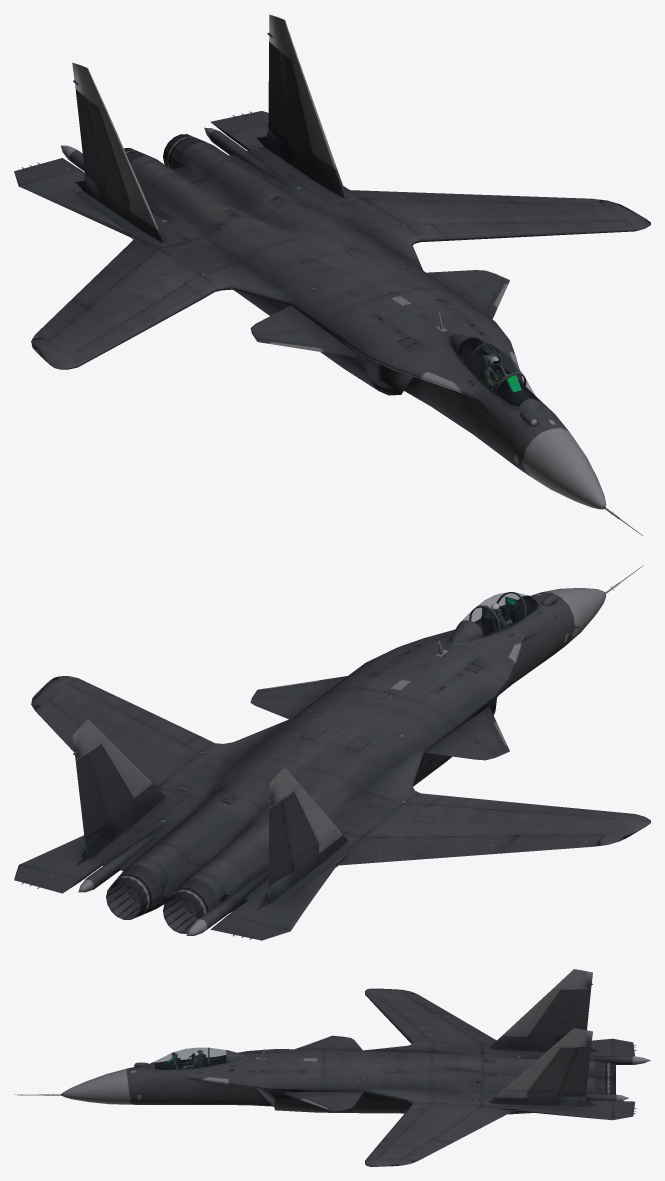
Rendered from Su-47_Berkut.dat.obj.
3 views of the same model, one above another, from view 1: azimuth 30°, elevation 25°; view 2: azimuth 150°, elevation 25°; view 3: azimuth 270°, elevation 25° (orthographic). The views are drawn at different scales.
Parts seen in each view (by area): view 1: SU-47_LOD0, SU-47_ElevatorR01, SU-47_CanardR01, SU-47_Glass01, SU-47_CanardL01, SU-47_FlapR01, SU-47_VoletL01, SU-47_VoletR01, SU-47_ElevatorL01, SU-47_RudderL01, SU-47_RudderR01, SU-47_FlapL01 (+1 smaller); view 2: SU-47_LOD0, SU-47_FlapR01, SU-47_ElevatorR01, SU-47_ElevatorL01, SU-47_CanardR01, SU-47_EngineL01, SU-47_CanardL01, SU-47_EngineR01, SU-47_Glass01, SU-47_RudderL01, SU-47_RudderR01, SU-47_AileronR01 (+3 smaller); view 3: SU-47_LOD0, SU-47_ElevatorL01, SU-47_Glass01, SU-47_FlapL01, SU-47_RudderL01, SU-47_CanardL01, SU-47_RudderR01, SU-47_ElevatorR01, SU-47_CanardR01, SU-47_FlapR01, SU-47_VoletR01, SU-47_VoletL01 (+4 smaller).
Part boxes in pixels (left/top/right/bottom): SU-47_LOD0: left=31, top=14, right=650, bottom=536; SU-47_ElevatorR01: left=14, top=158, right=131, bottom=236; SU-47_CanardR01: left=250, top=305, right=357, bottom=357; SU-47_Glass01: left=457, top=337, right=538, bottom=406; SU-47_CanardL01: left=426, top=270, right=509, bottom=319; SU-47_FlapR01: left=71, top=240, right=157, bottom=307; SU-47_VoletL01: left=430, top=221, right=557, bottom=240; SU-47_VoletR01: left=116, top=284, right=200, bottom=339; SU-47_ElevatorL01: left=210, top=111, right=268, bottom=150; SU-47_RudderL01: left=268, top=42, right=289, bottom=146; SU-47_RudderR01: left=75, top=89, right=106, bottom=191; SU-47_FlapL01: left=350, top=190, right=516, bottom=202; SU-47_LOD0: left=31, top=565, right=650, bottom=935; SU-47_FlapR01: left=339, top=836, right=516, bottom=865; SU-47_ElevatorR01: left=210, top=864, right=336, bottom=940; SU-47_ElevatorL01: left=14, top=835, right=102, bottom=893; SU-47_CanardR01: left=424, top=707, right=509, bottom=760; SU-47_EngineL01: left=106, top=865, right=162, bottom=919; SU-47_CanardL01: left=250, top=676, right=347, bottom=719; SU-47_EngineR01: left=163, top=879, right=219, bottom=933; SU-47_Glass01: left=461, top=592, right=538, bottom=637; SU-47_RudderL01: left=75, top=753, right=110, bottom=841; SU-47_RudderR01: left=268, top=800, right=293, bottom=886; SU-47_AileronR01: left=500, top=834, right=605, bottom=853; SU-47_LOD0: left=14, top=969, right=650, bottom=1166; SU-47_ElevatorL01: left=516, top=1100, right=636, bottom=1120; SU-47_Glass01: left=155, top=1047, right=226, bottom=1069; SU-47_FlapL01: left=432, top=1106, right=512, bottom=1142; SU-47_RudderL01: left=557, top=1046, right=590, bottom=1096; SU-47_CanardL01: left=283, top=1091, right=363, bottom=1111; SU-47_RudderR01: left=557, top=988, right=590, bottom=1041; SU-47_ElevatorR01: left=590, top=1038, right=636, bottom=1056; SU-47_CanardR01: left=295, top=1035, right=362, bottom=1050; SU-47_FlapR01: left=432, top=1011, right=496, bottom=1044; SU-47_VoletR01: left=382, top=1010, right=425, bottom=1038; SU-47_VoletL01: left=383, top=1109, right=424, bottom=1139.
Size of the model in its own units: 16.34 by 4.53 by 24.66.
